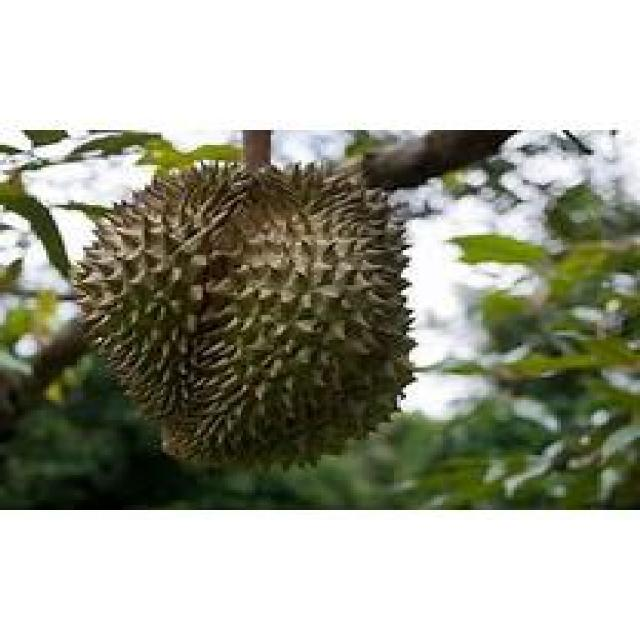fruit: (37, 132, 440, 498)
